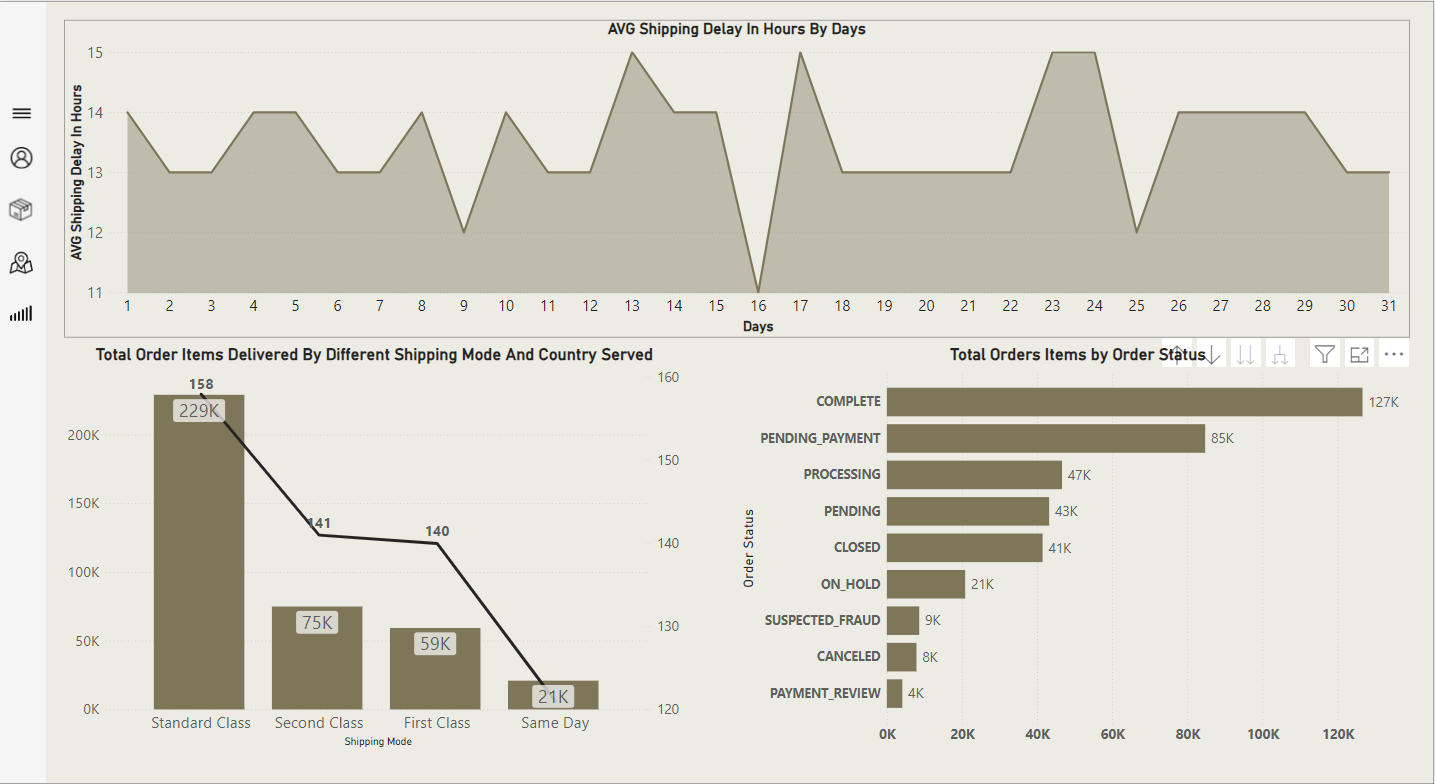

What the dashboard file says about the page in this screenshot:
{"tool":"powerbi","page":{"name":"Shipping Efficiency","canvas":[1980,1080],"ordinal":2},"visuals":[{"type":"areaChart","title":"AVG Shipping Delay In Hours By Days","fields":{"Category":["DataCoSupplyChainDataset.order date (DateOrders).Variation.Date Hierarchy.Year","DataCoSupplyChainDataset.order date (DateOrders).Variation.Date Hierarchy.Quarter","DataCoSupplyChainDataset.order date (DateOrders).Variation.Date Hierarchy.Month","DataCoSupplyChainDataset.order date (DateOrders).Variation.Date Hierarchy.Day"],"Y":["Measure.AVG Shipping Delay In Hours"]},"box":[90,26,1856,438],"z":0},{"type":"actionButton","box":[10.2,122.7,42,66.7],"z":0,"group":"g1"},{"type":"actionButton","box":[12.2,186.4,38,60],"z":1000,"group":"g1"},{"type":"lineStackedColumnComboChart","title":"Total Order Items Delivered By Different Shipping Mode And Country Served","fields":{"Category":["DataCoSupplyChainDataset.Shipping Mode"],"Y":["Measure.Sum of Total Orders"],"Y2":["Measure.Total Country Served"]},"box":[90,474,856,560],"z":1000},{"type":"actionButton","box":[5.9,243.4,49.3,88.6],"z":2000,"group":"g1"},{"type":"clusteredBarChart","title":"Total Orders Items by Order Status","fields":{"Category":["DataCoSupplyChainDataset.Order Status"],"Y":["Measure.Sum of Total Orders"]},"box":[1018,474,942,560],"z":2000},{"type":"group","id":"g1","title":"Group 5","box":[4,122.7,54,354.3],"z":3000},{"type":"image","box":[8.4,329,44.5,63],"z":3000,"group":"g1"},{"type":"image","box":[4,389,54,88],"z":4000,"group":"g1"}]}

Visuals, with their boxes on the page's 1980x1080 design canvas (x1, y1, x2, y2). These are canvas units, not pixel positions in the 1435x784 screenshot, which may show the page scaled, cropped or inside an application window:
"AVG Shipping Delay In Hours By Days" areaChart: [x1=90, y1=26, x2=1946, y2=464]
actionButton: [x1=10, y1=123, x2=52, y2=189]
actionButton: [x1=12, y1=186, x2=50, y2=246]
"Total Order Items Delivered By Different Shipping Mode And Country Served" lineStackedColumnComboChart: [x1=90, y1=474, x2=946, y2=1034]
actionButton: [x1=6, y1=243, x2=55, y2=332]
"Total Orders Items by Order Status" clusteredBarChart: [x1=1018, y1=474, x2=1960, y2=1034]
"Group 5" group: [x1=4, y1=123, x2=58, y2=477]
image: [x1=8, y1=329, x2=53, y2=392]
image: [x1=4, y1=389, x2=58, y2=477]
